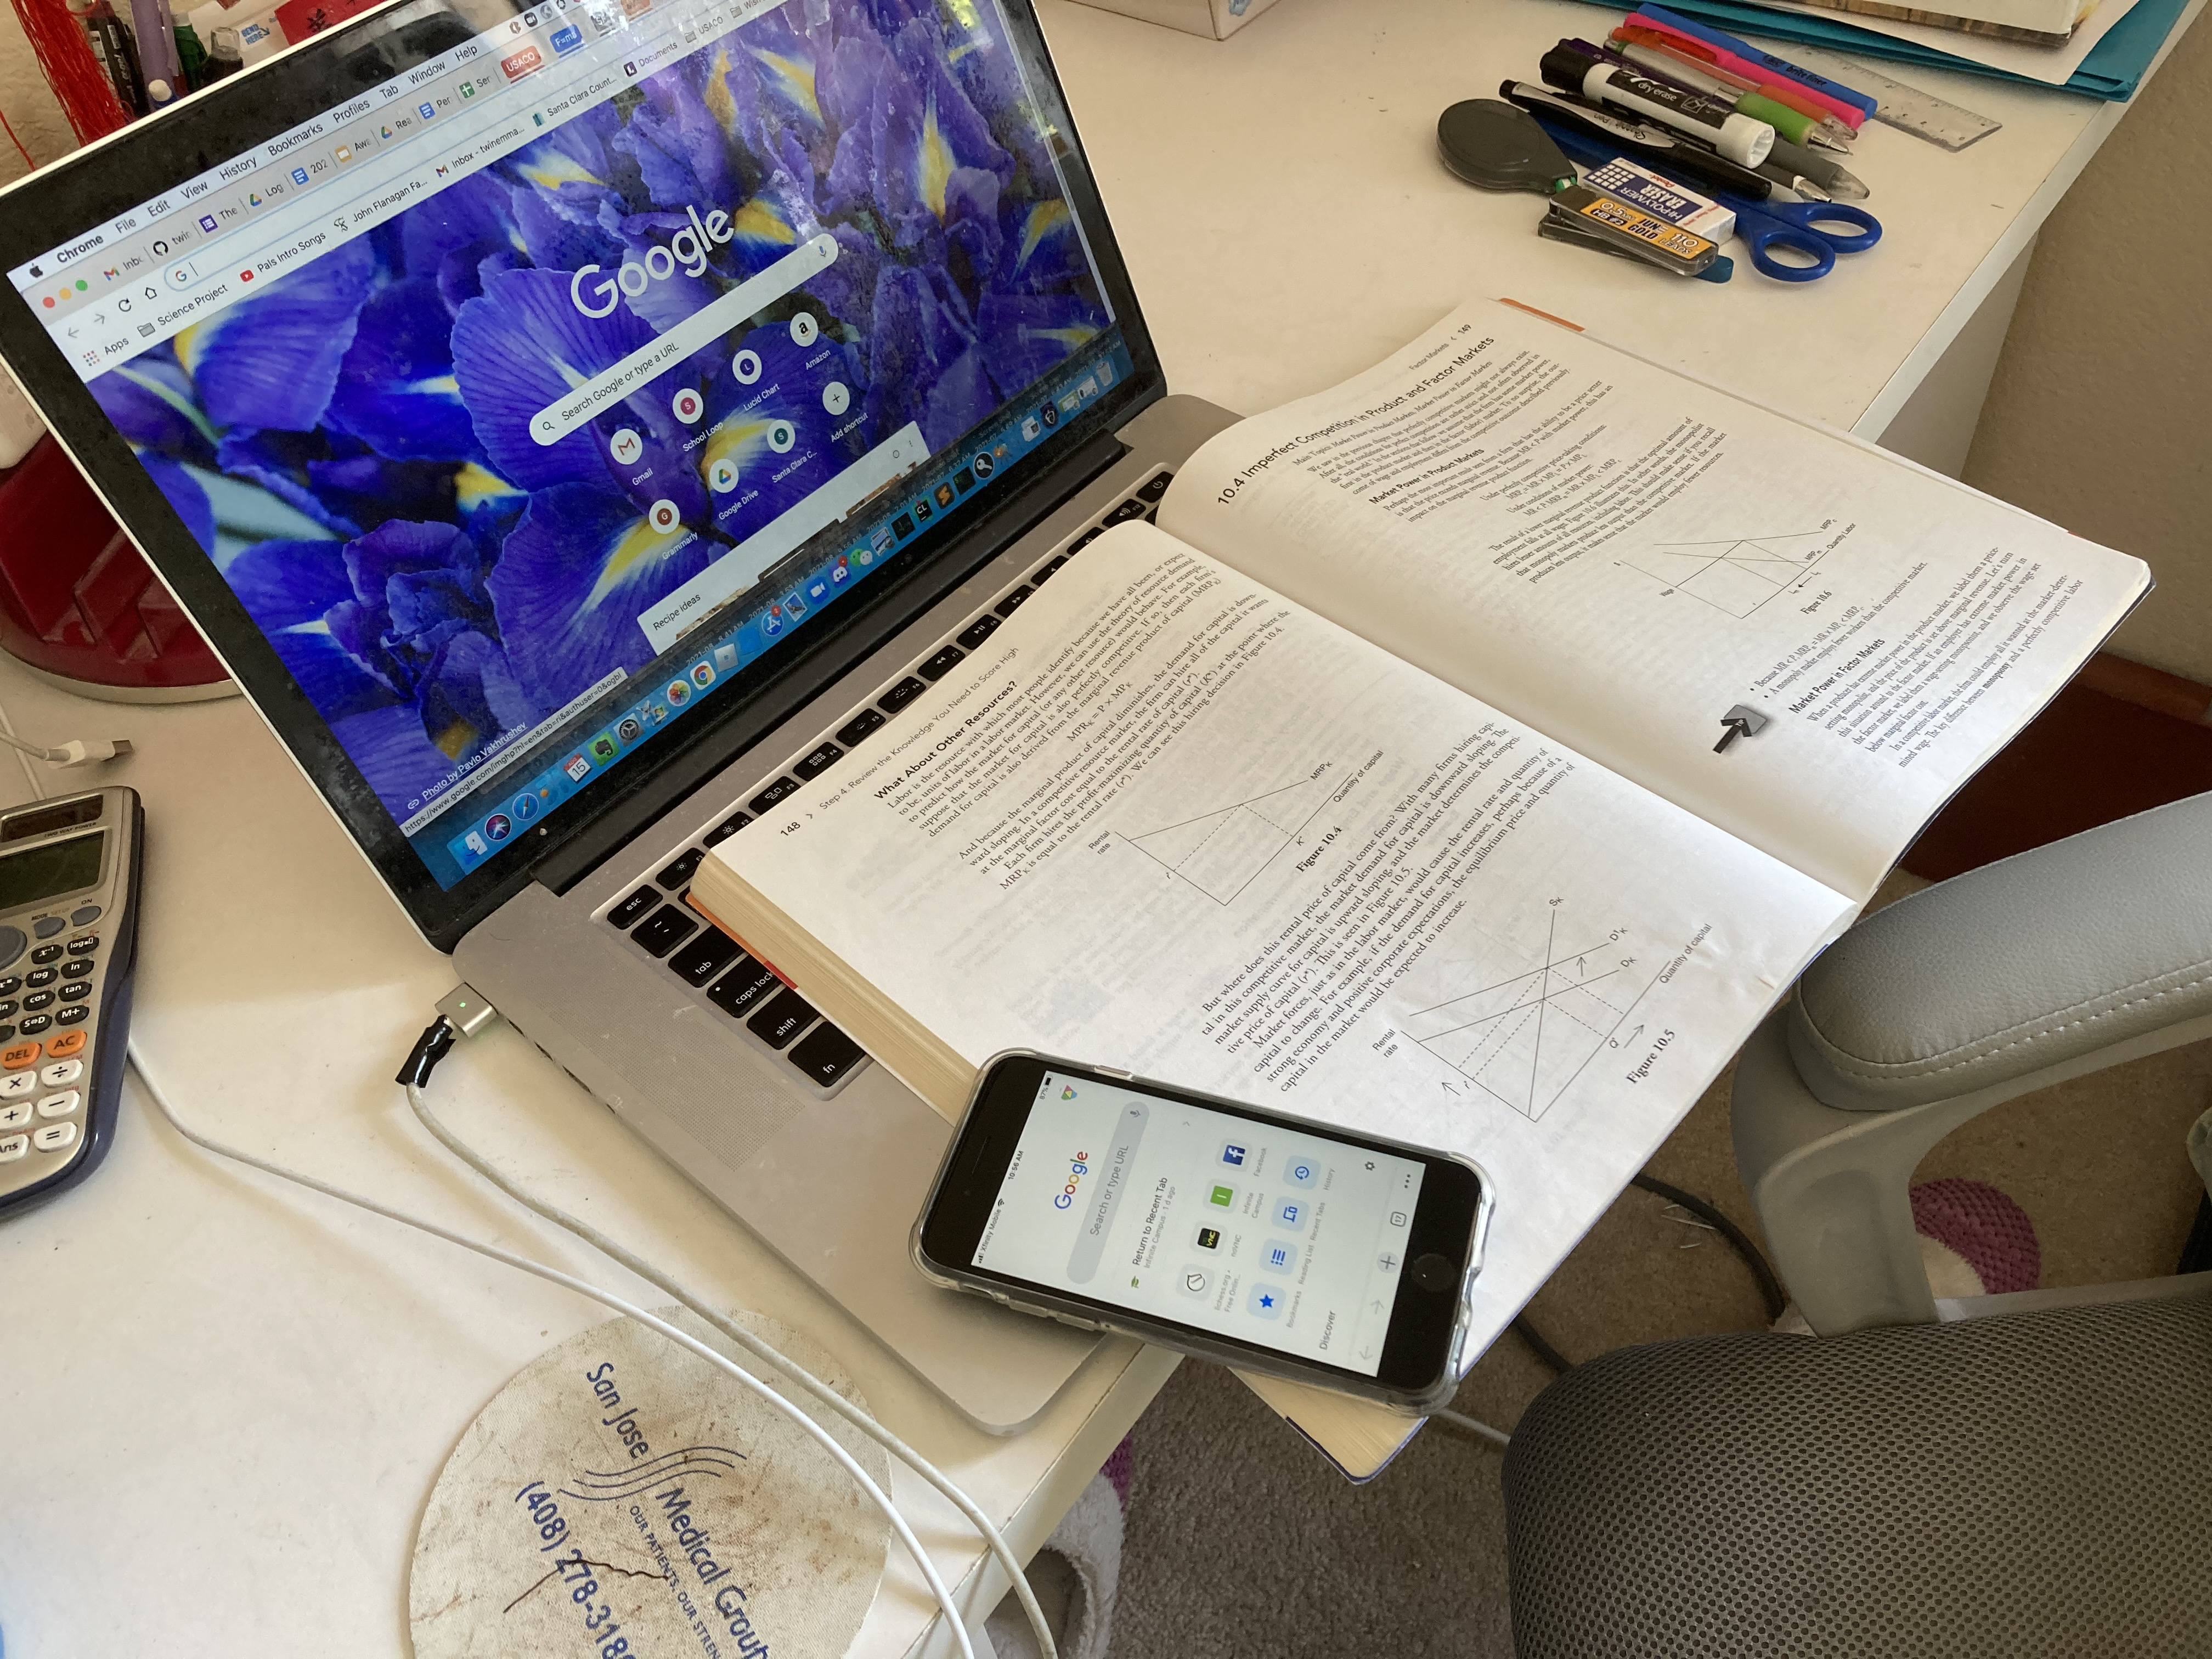Cell Phone: (920, 1047, 1489, 1417)
Open Book: (683, 293, 2149, 1368)
